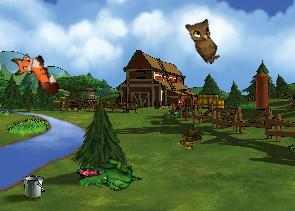crocodile: (74, 148, 142, 203)
fox: (7, 44, 62, 106)
owl: (180, 12, 231, 66)
